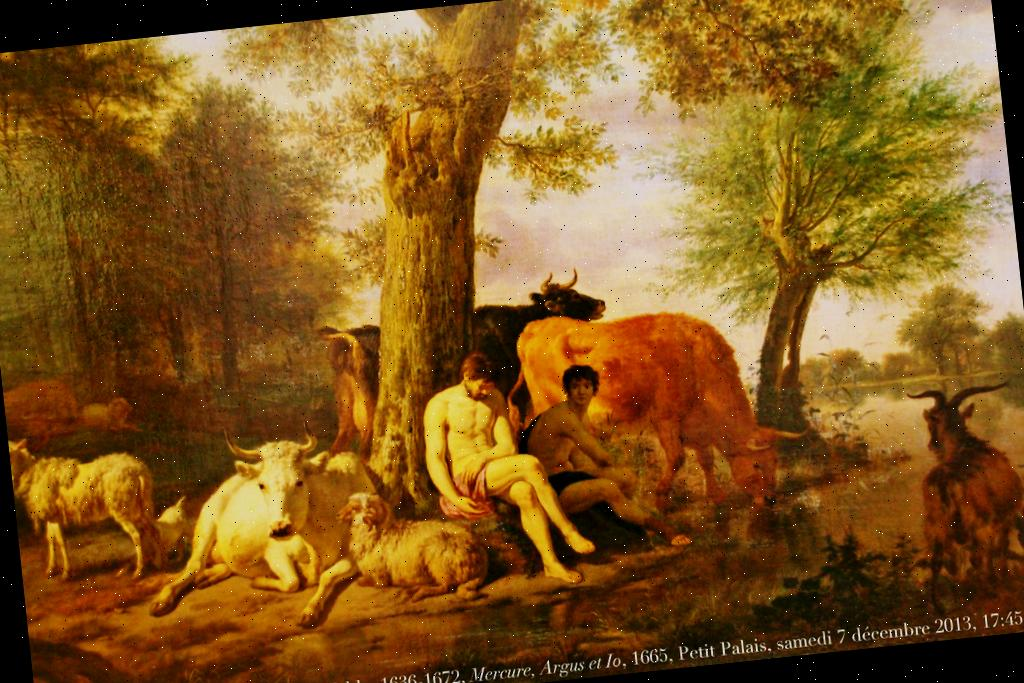Sheep: (7, 422, 169, 587), (334, 476, 486, 612)
